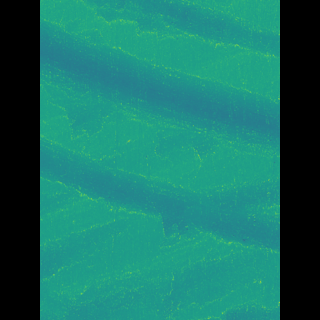Loch: (69, 12, 248, 165), (70, 130, 250, 259), (102, 0, 250, 66)
